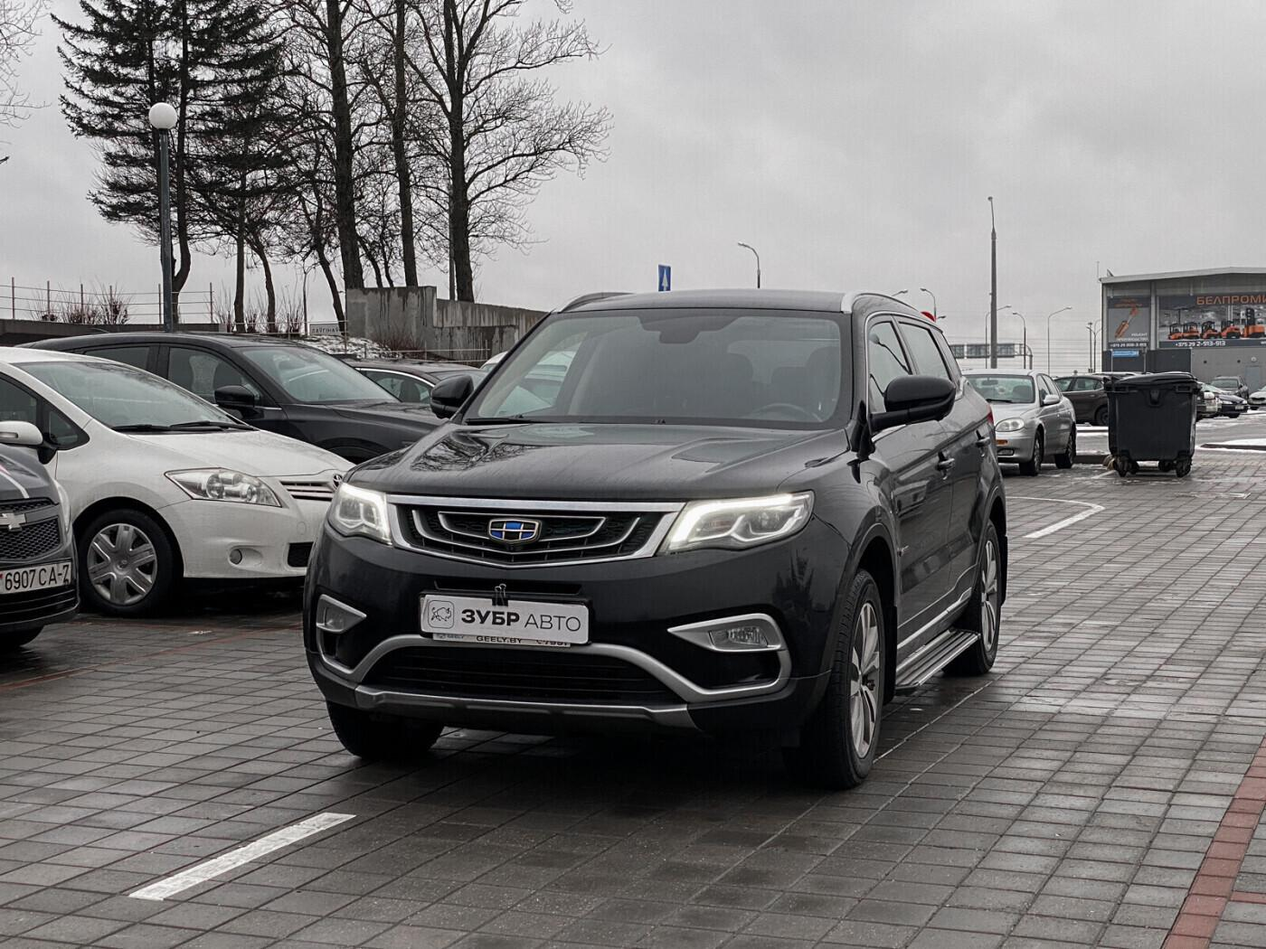Atlas_2016-2023: (309, 280, 1006, 806)
